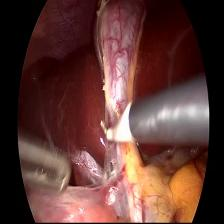Grasper: (14, 134, 73, 194)
Hook: (98, 100, 134, 152)
